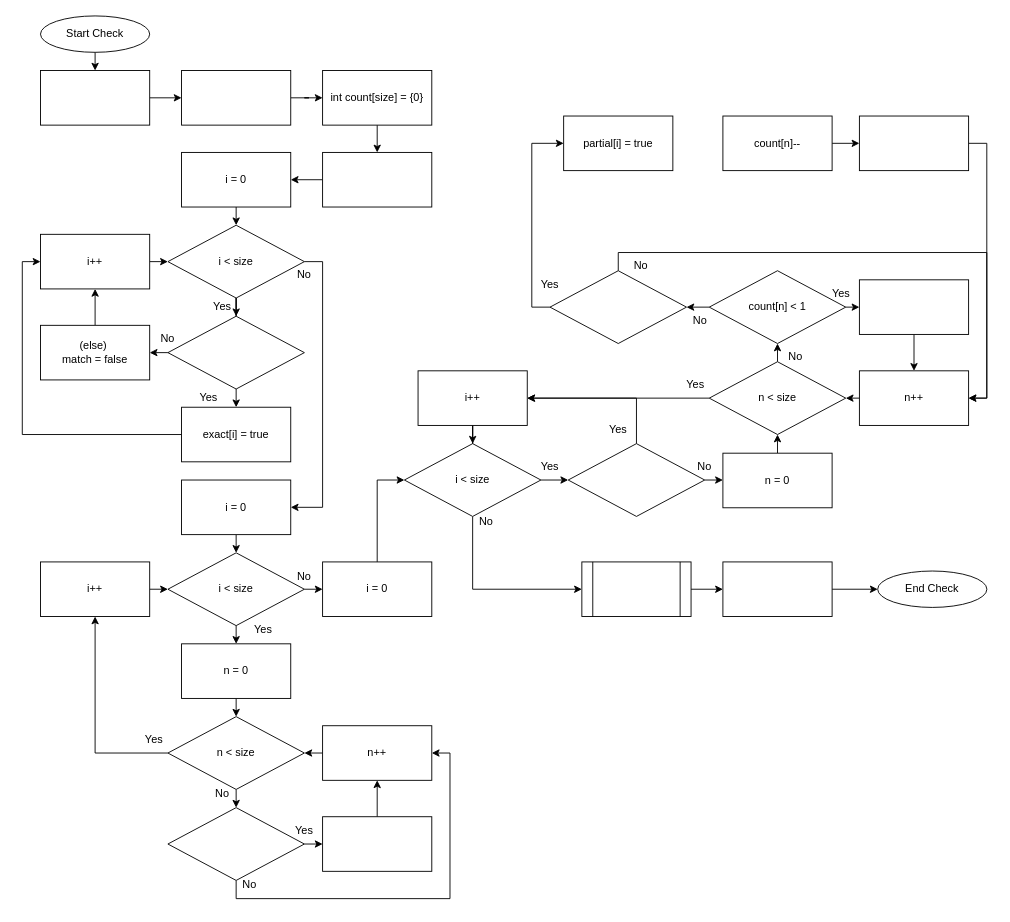
Some shapes in this 1010 by 922 pixel diagram are drawn without their labels. The shapes that lost their labels are listed below. From the top down, each one's box as (x1, y1, x2, y2) in pixels, then its label:
(40, 70, 150, 125): bool exact[size] = {false}
(181, 70, 291, 125): bool partial[size] = {false}
(858, 115, 969, 171): n = size (no need to check rest)
(322, 152, 432, 207): bool match = true
(549, 270, 687, 344): guess[i] == code[n] && !exact[n]
(858, 279, 969, 334): continue
(167, 315, 304, 389): guess[i] == code[i]
(567, 443, 705, 516): if !exact[i]
(581, 561, 691, 617): Result(exact, partial,size)
(722, 561, 832, 617): return match
(167, 807, 304, 880): if code[i] == code[n]
(322, 816, 432, 871): count[i]++
